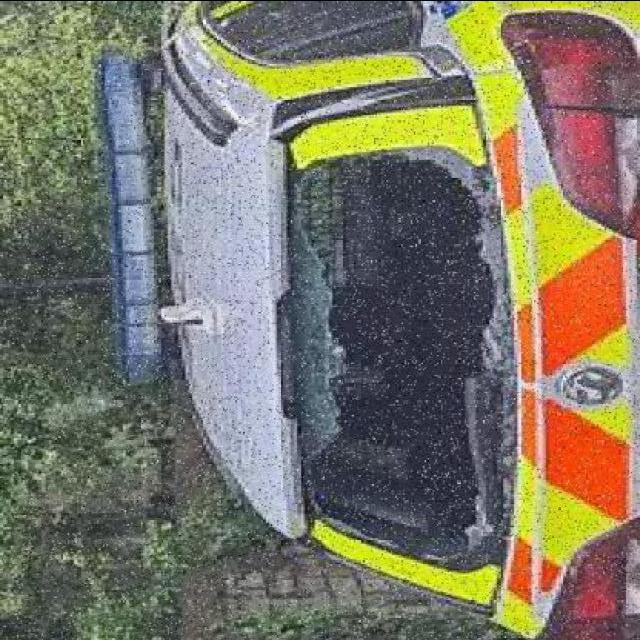Rear-windscreen-Damage: (277, 139, 513, 563)
